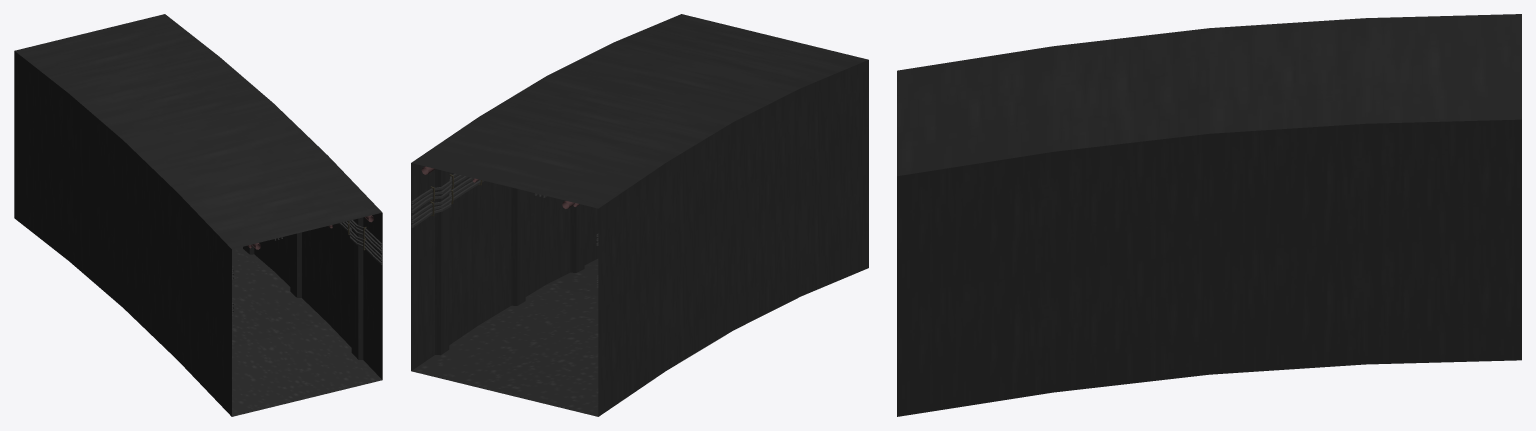
File: SW_ENV_RailTunnel_Riser_B_Single_10m_FF.fbx
3 renders of one model, left to right at view 1: azimuth 30°, elevation 25°; view 2: azimuth 150°, elevation 25°; view 3: azimuth 270°, elevation 25°, orthographic. The views are drawn at different scales.
Visible parts, largest first — view 1: SW_ENV_RailTunnel_Riser_B_Single_10m_FF; view 2: SW_ENV_RailTunnel_Riser_B_Single_10m_FF; view 3: SW_ENV_RailTunnel_Riser_B_Single_10m_FF.
Boxes of the visible parts, left/top/right/bottom form: SW_ENV_RailTunnel_Riser_B_Single_10m_FF: left=14, top=14, right=382, bottom=416; SW_ENV_RailTunnel_Riser_B_Single_10m_FF: left=411, top=14, right=868, bottom=416; SW_ENV_RailTunnel_Riser_B_Single_10m_FF: left=897, top=14, right=1521, bottom=416.
Bounding box in the file's own units: 4 × 5.25 × 10.
